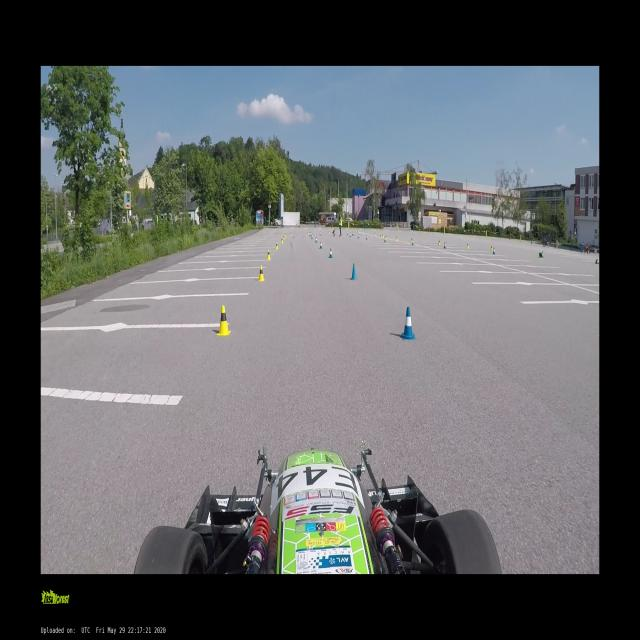blue_cone: (400, 307, 416, 340), (351, 263, 356, 281), (328, 248, 332, 258), (493, 248, 496, 255), (365, 235, 368, 240), (444, 241, 446, 248), (316, 237, 318, 243), (539, 253, 542, 257), (412, 239, 414, 245), (320, 242, 322, 248), (384, 236, 386, 242)
yellow_cone: (216, 305, 231, 335), (258, 266, 264, 282), (266, 248, 270, 260), (276, 241, 278, 250), (438, 240, 441, 245), (467, 242, 469, 249), (281, 238, 283, 243), (396, 235, 398, 240), (491, 245, 492, 250), (396, 236, 397, 241), (283, 235, 284, 240), (411, 237, 412, 242)
